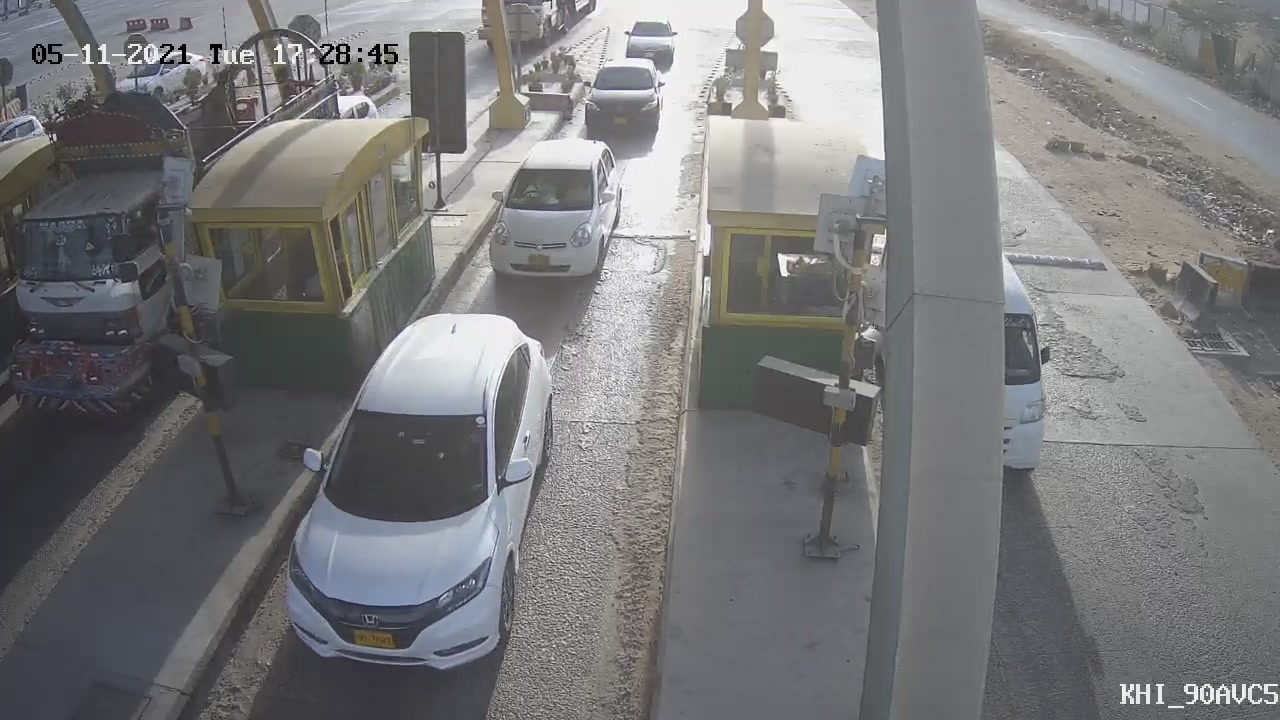F1: (470, 122, 637, 304)
